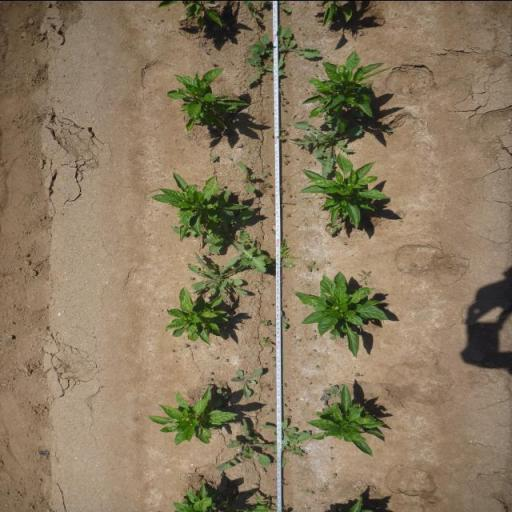plant: (292, 268, 393, 357), (299, 50, 395, 130), (297, 152, 393, 228), (304, 384, 390, 455), (150, 172, 247, 234), (146, 386, 240, 446), (165, 66, 249, 133), (164, 286, 236, 346), (155, 0, 227, 26), (170, 481, 228, 512)
weed: (170, 207, 269, 272), (213, 416, 312, 472), (288, 118, 367, 178), (247, 24, 322, 68), (188, 251, 253, 301), (245, 51, 285, 86), (228, 486, 278, 512), (230, 366, 264, 397), (266, 238, 300, 268), (260, 418, 298, 437), (235, 160, 256, 192), (261, 0, 295, 14), (318, 384, 342, 402), (213, 385, 231, 406), (244, 0, 261, 18), (356, 268, 372, 285), (325, 222, 341, 236), (280, 310, 290, 328), (306, 259, 318, 272), (257, 336, 271, 344), (209, 153, 219, 161), (260, 318, 270, 325), (264, 384, 274, 390), (283, 158, 290, 165), (385, 128, 393, 134), (277, 134, 285, 140), (260, 169, 266, 177), (305, 489, 314, 494), (353, 372, 364, 376), (182, 342, 189, 348), (265, 181, 272, 186), (269, 407, 276, 412), (333, 472, 338, 478), (282, 402, 287, 408), (278, 88, 284, 92), (224, 358, 230, 362), (272, 322, 276, 328), (270, 356, 276, 360), (310, 334, 316, 338), (211, 60, 216, 64), (189, 276, 194, 280), (205, 251, 211, 254), (281, 154, 289, 156), (170, 348, 174, 352), (282, 108, 288, 110), (284, 131, 288, 134), (214, 356, 218, 359), (208, 378, 212, 381), (295, 338, 301, 340), (280, 102, 285, 104), (272, 228, 274, 233), (209, 372, 213, 374), (282, 96, 284, 98)
